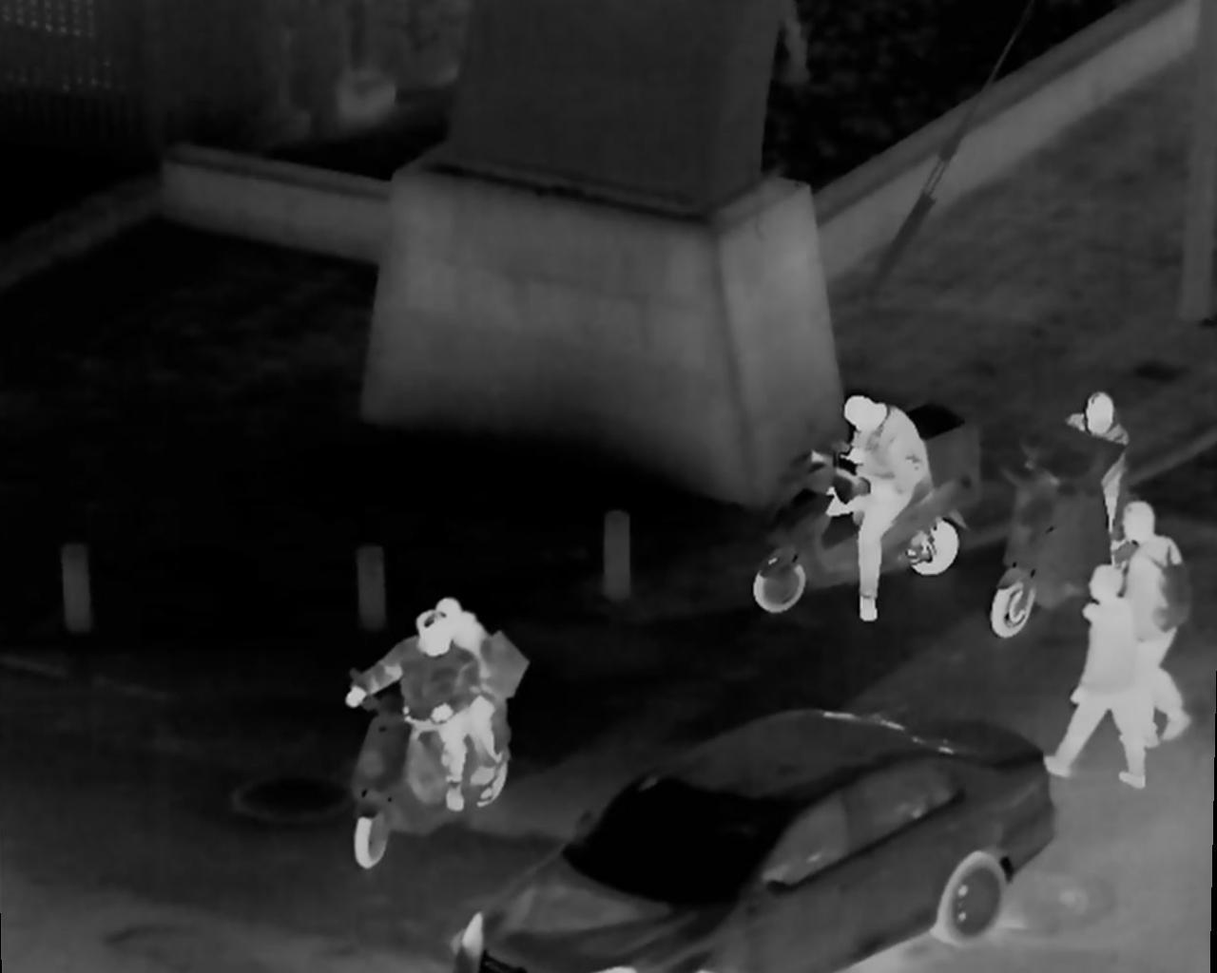person: (340, 611, 480, 817), (836, 385, 937, 625), (1058, 566, 1141, 797), (1123, 498, 1191, 748), (439, 594, 512, 797), (1067, 377, 1127, 502)
